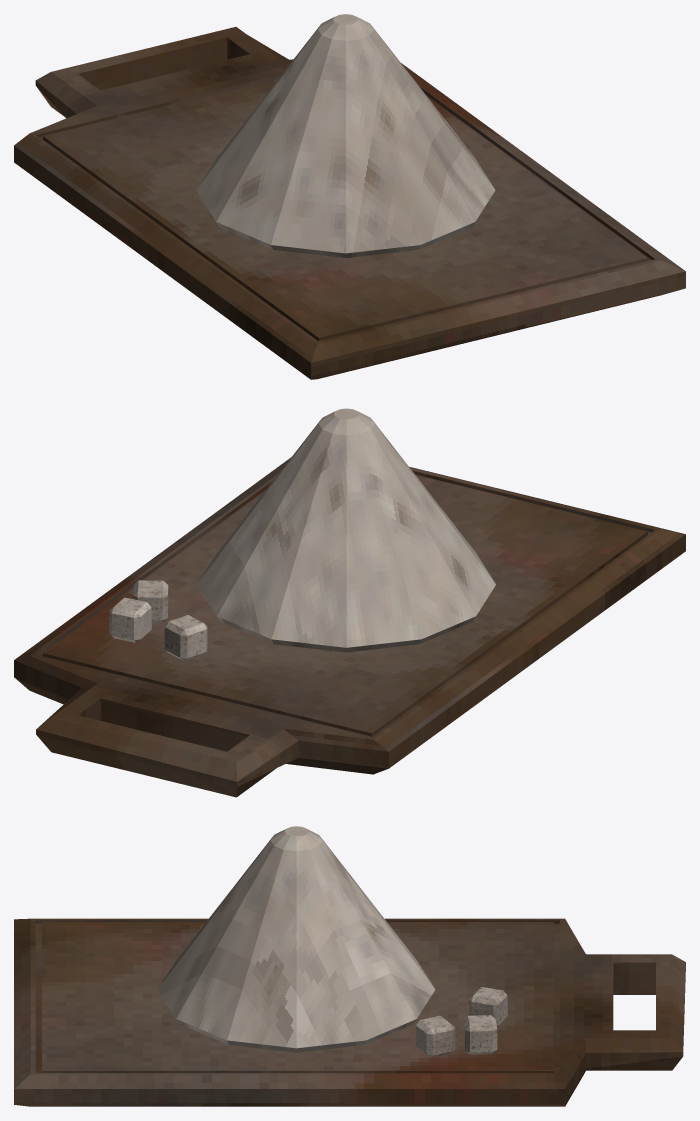
The model's file is sugar.glb.
The picture shows the model from 3 angles, top to bottom: view 1: azimuth 30°, elevation 25°; view 2: azimuth 150°, elevation 25°; view 3: azimuth 270°, elevation 25°; orthographic projection. The views are drawn at different scales.
Visible parts, largest first — view 1: Cube, Cone; view 2: Cube, Cone, Cube.003, Cube.004, Cube.002; view 3: Cube, Cone, Cube.002, Cube.004, Cube.003.
Part boxes in pixels (x1=…): Cube: x1=14, y1=27, x2=685, y2=379; Cone: x1=196, y1=14, x2=495, y2=257; Cube: x1=14, y1=457, x2=685, y2=797; Cone: x1=197, y1=408, x2=495, y2=652; Cube.003: x1=164, y1=615, x2=207, y2=660; Cube.004: x1=109, y1=597, x2=151, y2=642; Cube.002: x1=133, y1=580, x2=168, y2=622; Cube: x1=14, y1=918, x2=685, y2=1106; Cone: x1=158, y1=826, x2=435, y2=1052; Cube.002: x1=416, y1=1015, x2=455, y2=1057; Cube.004: x1=463, y1=1015, x2=497, y2=1054; Cube.003: x1=469, y1=987, x2=507, y2=1026.
Bounding box in the file's own units: 0.2788 × 0.1513 × 0.4665.
3 materials, 3 textured.
